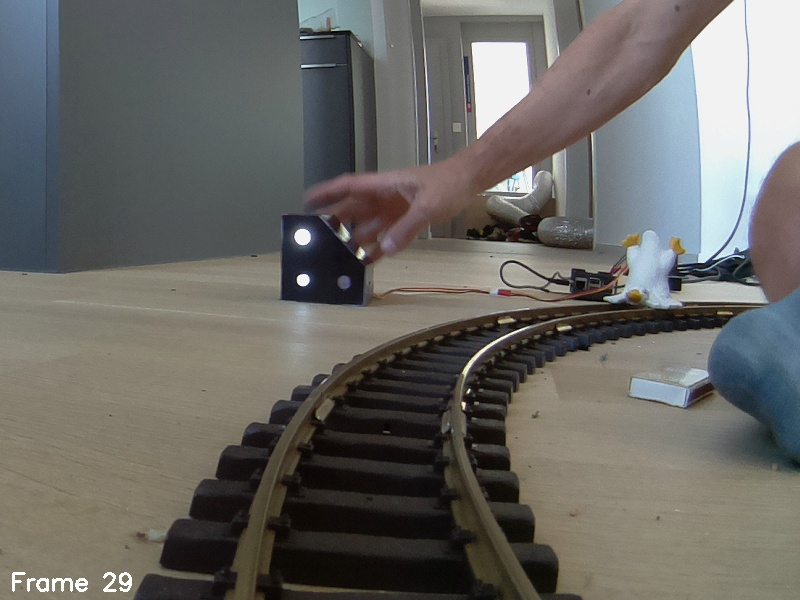Ente: (600, 226, 686, 314)
Fahrt: (276, 209, 378, 306)
